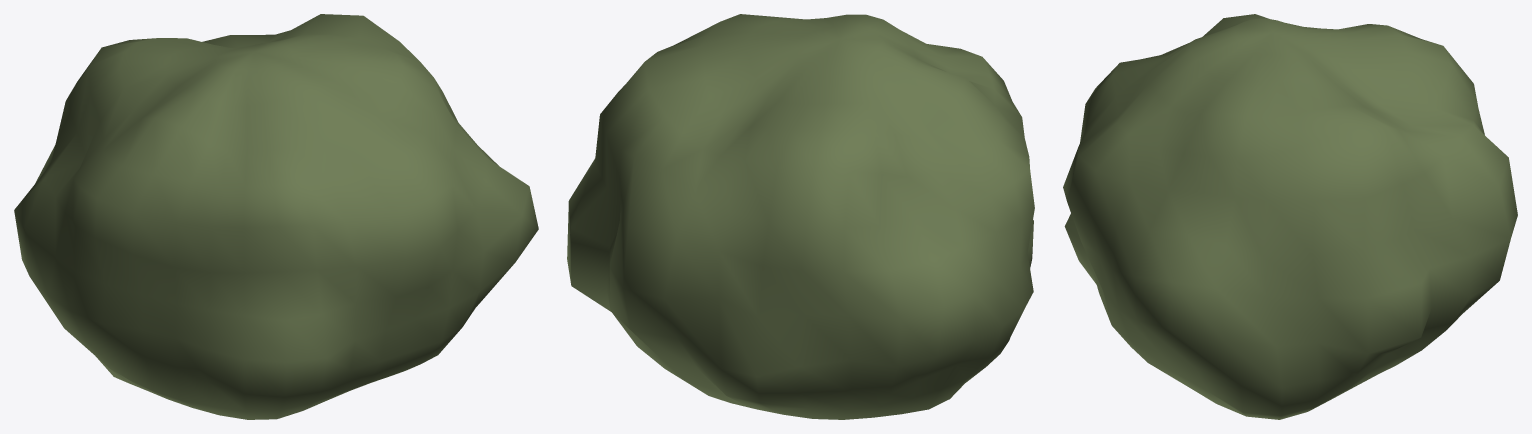
File: bush.fbx
The picture shows the model from 3 angles, left to right: view 1: azimuth 30°, elevation 25°; view 2: azimuth 150°, elevation 25°; view 3: azimuth 270°, elevation 25°; orthographic projection. The views are drawn at different scales.
Parts seen in each view (by area): view 1: Sphere; view 2: Sphere; view 3: Sphere.
Boxes of the visible parts, <box> form: Sphere: <box>14,14,538,419</box>; Sphere: <box>567,14,1034,419</box>; Sphere: <box>1063,14,1517,419</box>.
Bounding box in the file's own units: 259 × 193 × 255.
